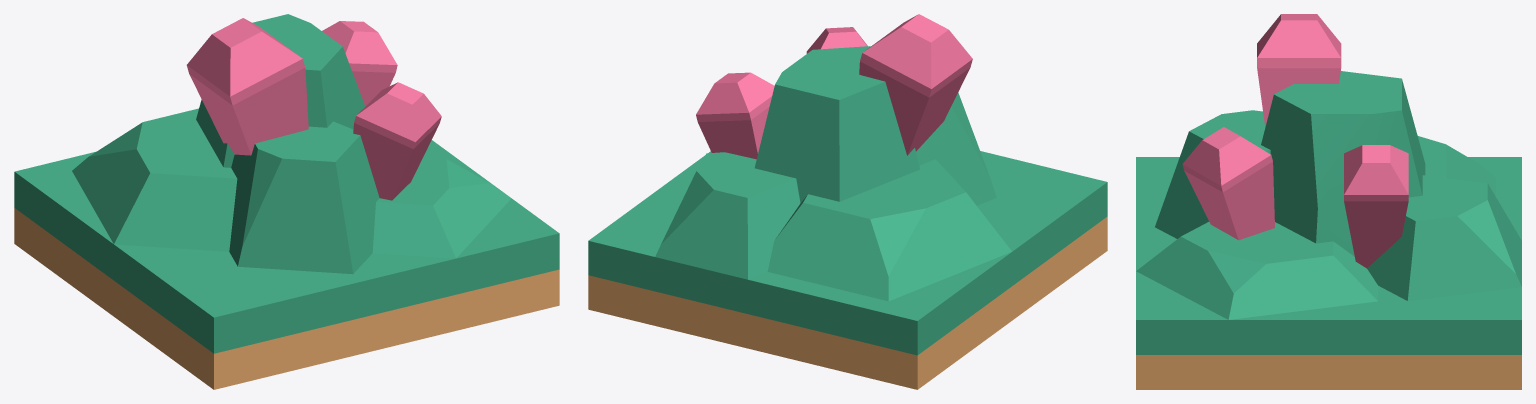
File: tile_crystal.dae
The picture shows the model from 3 angles, left to right: view 1: azimuth 30°, elevation 25°; view 2: azimuth 150°, elevation 25°; view 3: azimuth 270°, elevation 25°; orthographic projection. The views are drawn at different scales.
Parts seen in each view (by area): view 1: tile_crystal, rocks, crystal (×3); view 2: rocks, tile_crystal, crystal (×3); view 3: rocks, tile_crystal, crystal (×3).
Part boxes in pixels (left/top/right/bottom): tile_crystal: left=14, top=140, right=559, bottom=389; rocks: left=72, top=14, right=511, bottom=274; crystal (×3): left=186, top=18, right=441, bottom=200; rocks: left=655, top=46, right=1011, bottom=301; tile_crystal: left=588, top=151, right=1107, bottom=389; crystal (×3): left=696, top=14, right=972, bottom=159; rocks: left=1136, top=71, right=1521, bottom=319; tile_crystal: left=1136, top=157, right=1521, bottom=389; crystal (×3): left=1182, top=14, right=1408, bottom=268.
Size of the model in its own units: 1 by 0.7565 by 1.
